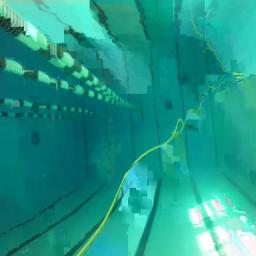Full: (186, 124, 199, 132), (164, 105, 172, 110)
